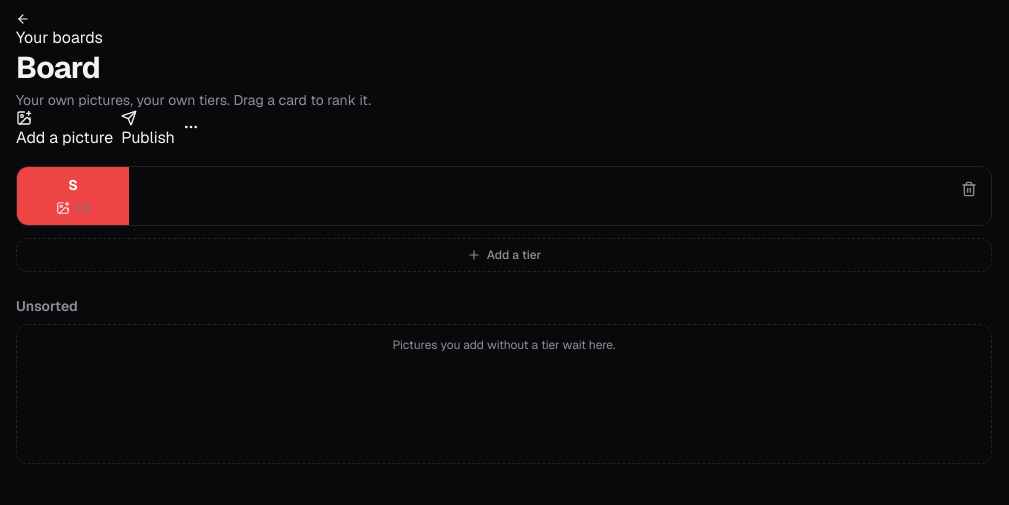
it: publishing a board with no cards › refuses at the button, with a reason, and never opens the dialog
The image size is (1009, 505).
What coordinates should you click on to do the following:
click the button "Publish"
I would click on:
 (148, 130)
Its box is [121,110,175,150].
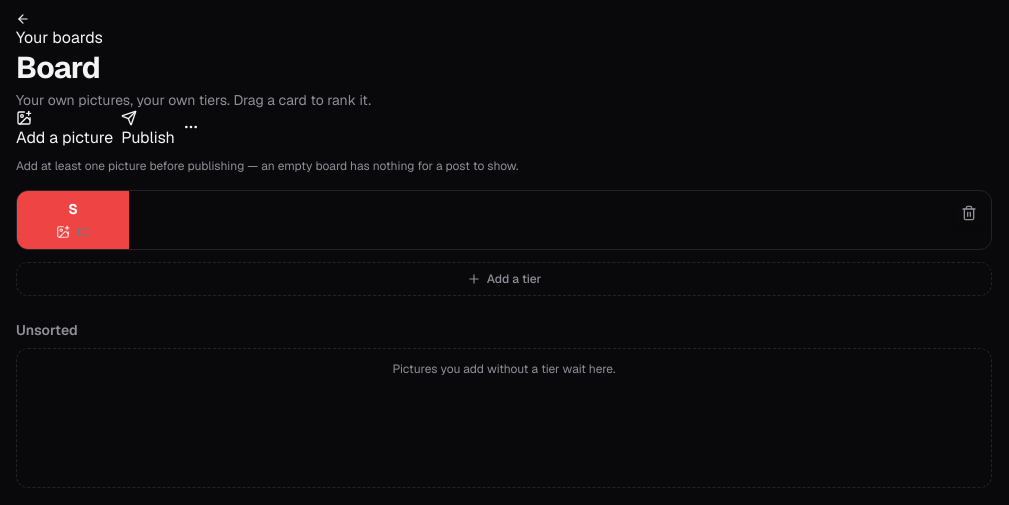
expect the text "Add at least one picture" is shown: met, box [16,158,518,174]
